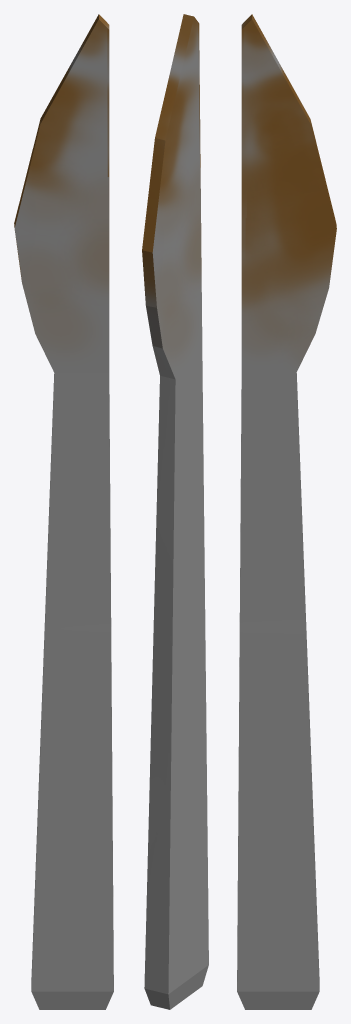
Rendered from cutleryT2_knife.fbx.
3 renders of one model, left to right at view 1: azimuth 90°, elevation 25°; view 2: azimuth 150°, elevation 25°; view 3: azimuth 270°, elevation 25°, orthographic.
Parts seen in each view (by area): view 1: Cube; view 2: Cube; view 3: Cube.
Part boxes in pixels (left/top/right/bottom): Cube: left=14, top=14, right=113, bottom=1009; Cube: left=142, top=14, right=208, bottom=1009; Cube: left=237, top=14, right=336, bottom=1009.
Bounding box in the file's own units: 5.24 × 202 × 18.52.
